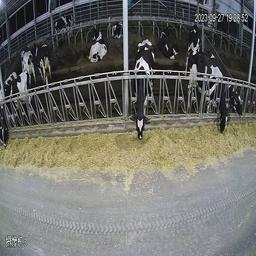cow: (183, 48, 228, 134), (131, 37, 156, 141), (2, 71, 30, 150), (32, 40, 52, 85), (157, 28, 180, 61), (88, 28, 109, 62), (229, 76, 245, 117), (54, 14, 75, 39), (16, 44, 33, 74), (186, 21, 204, 49), (110, 21, 123, 42)
